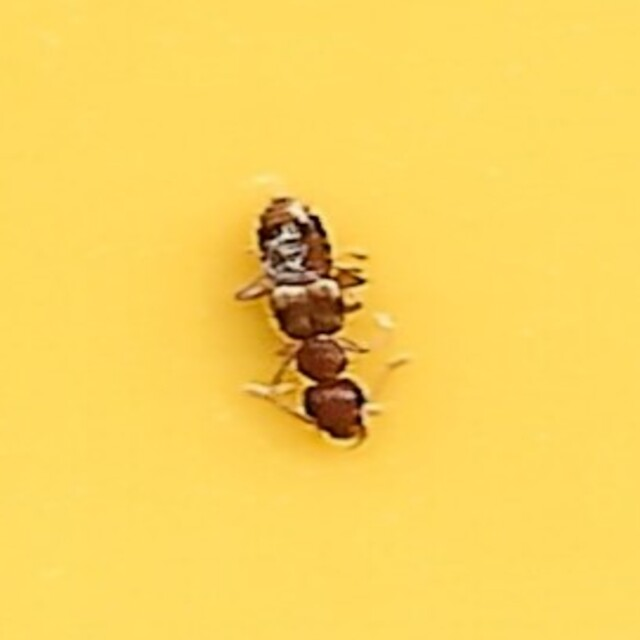Hymenoptera: (236, 196, 404, 444)
